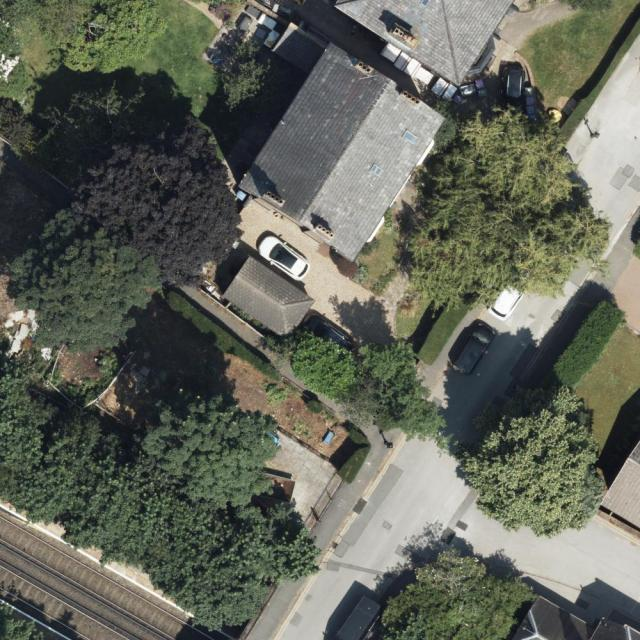roof: (237, 21, 453, 265), (335, 0, 517, 86), (224, 253, 316, 340), (514, 592, 640, 640), (599, 441, 640, 529)
skylight: (399, 129, 420, 147), (370, 164, 384, 178), (420, 0, 431, 8)
